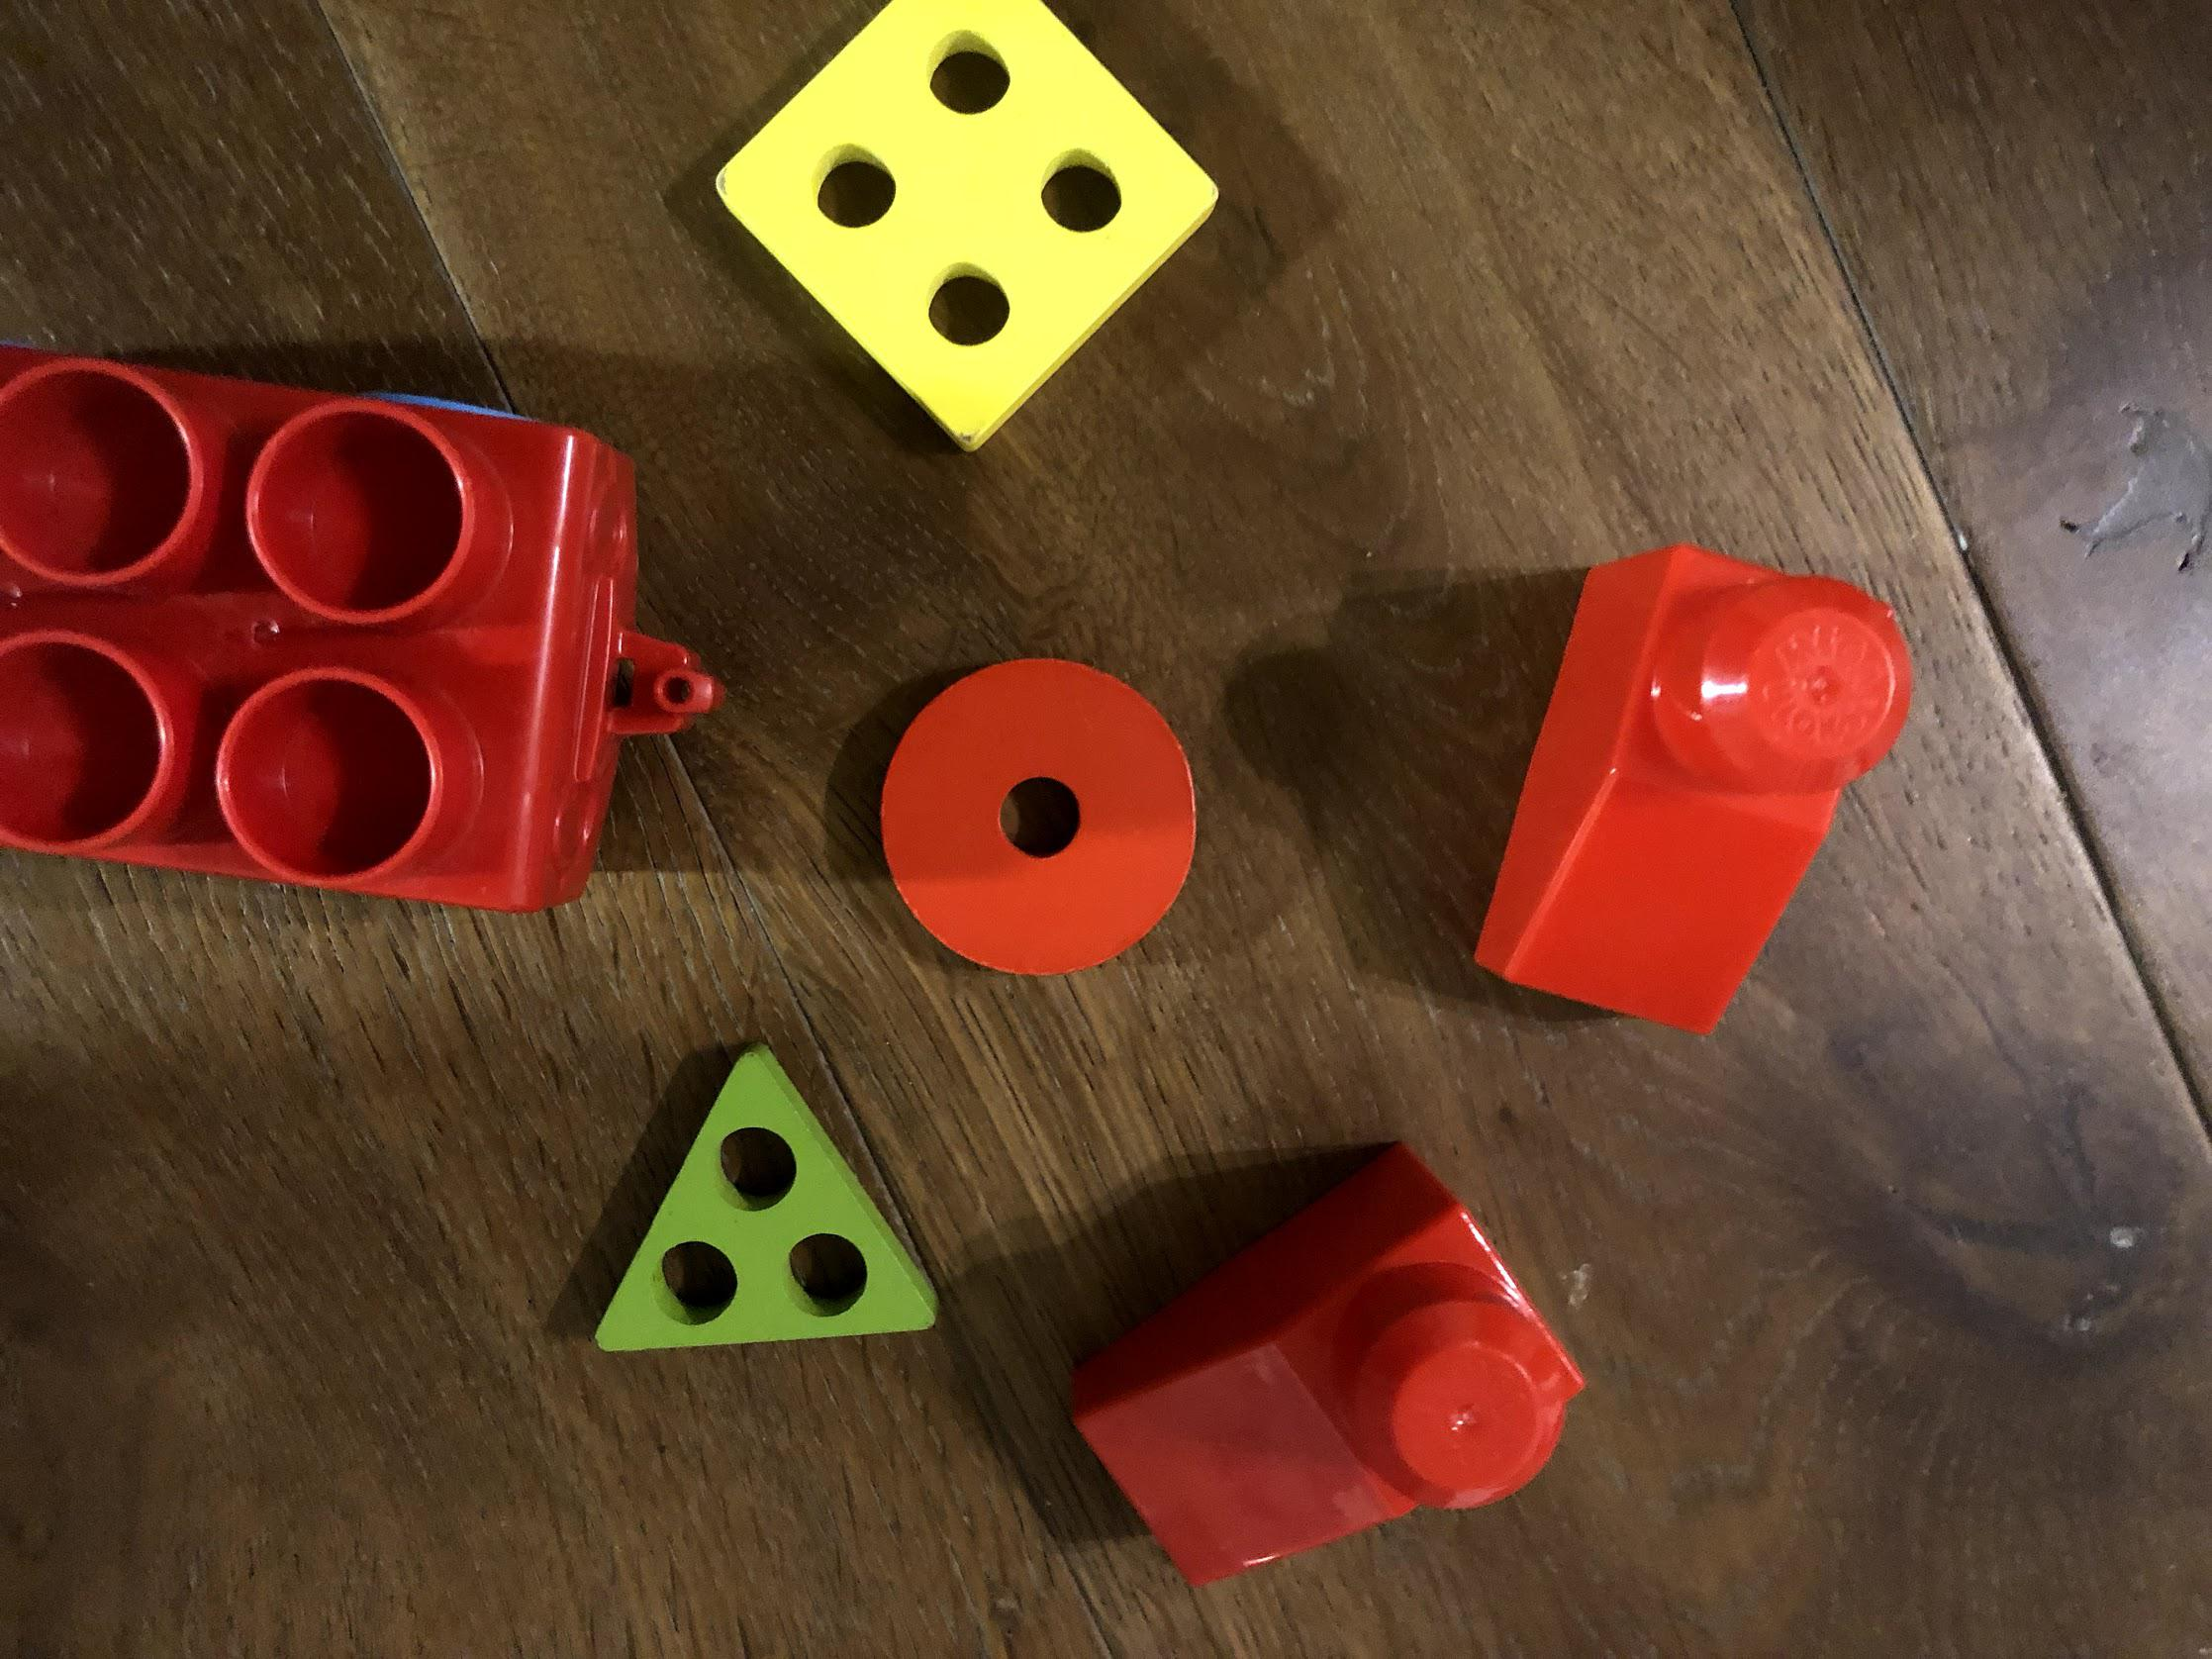Circle: (869, 655, 1205, 969)
Square: (704, 0, 1217, 448)
Triangle: (589, 1047, 941, 1356)
